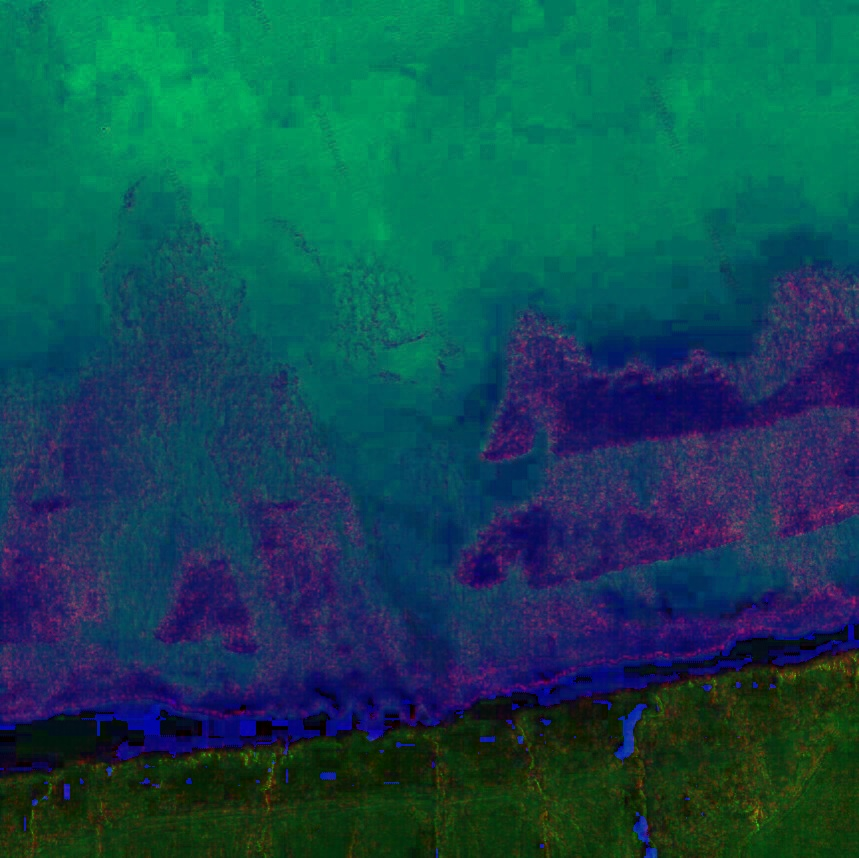rip_current: (235, 234, 576, 668)
